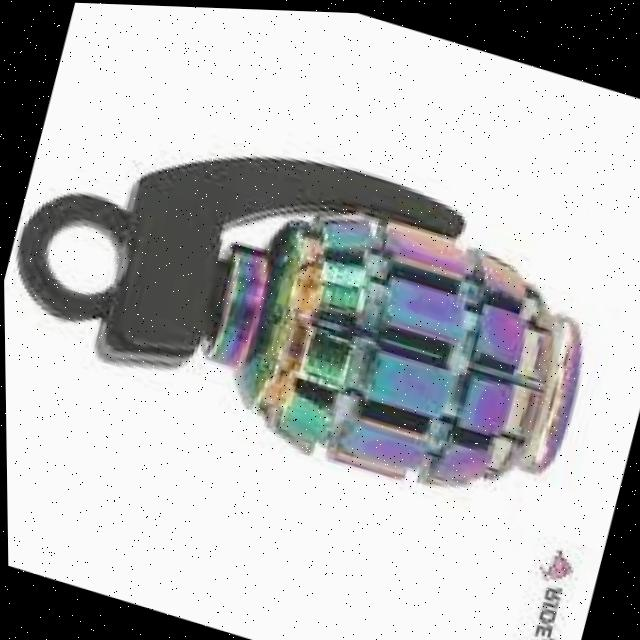grenade: (1, 73, 618, 527)
